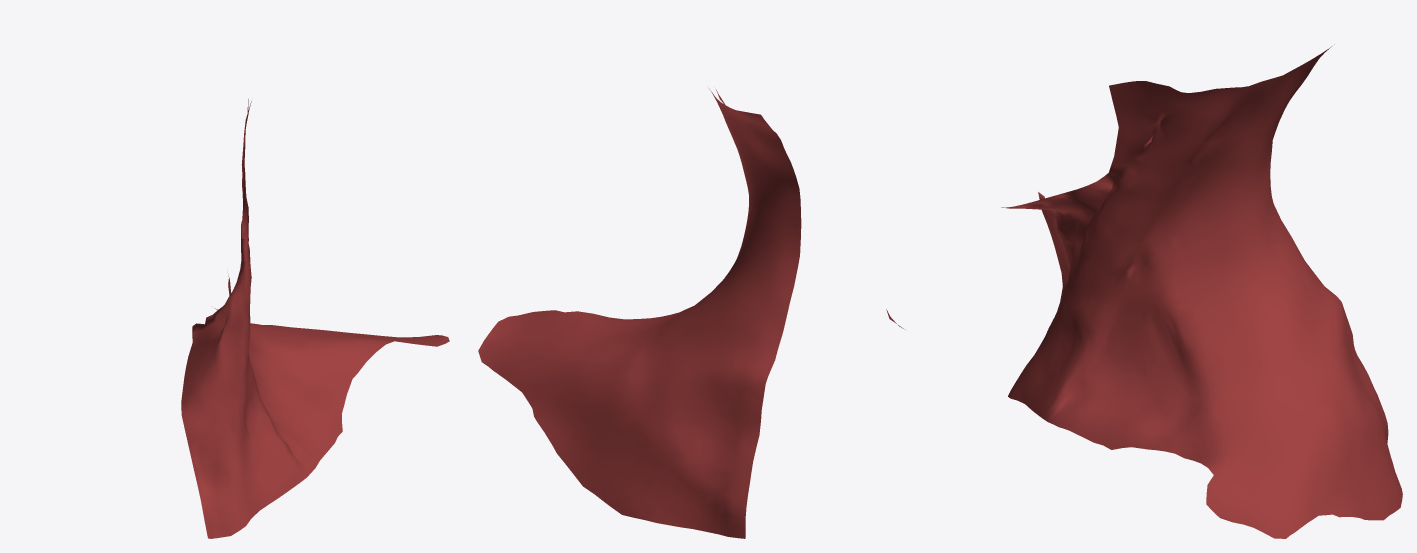
Rendered from superficial-investing-cervical-fascia-l.glb.
3 renders of one model, left to right at view 1: azimuth 30°, elevation 25°; view 2: azimuth 150°, elevation 25°; view 3: azimuth 270°, elevation 25°, orthographic. The views are drawn at different scales.
Visible parts, largest first — view 1: Superficial investing cervical fascia.l; view 2: Superficial investing cervical fascia.l; view 3: Superficial investing cervical fascia.l.
Boxes of the visible parts, <box> form: Superficial investing cervical fascia.l: <box>181,99,449,538</box>; Superficial investing cervical fascia.l: <box>478,89,904,538</box>; Superficial investing cervical fascia.l: <box>1001,44,1402,538</box>.
Size of the model in its own units: 0.1762 by 0.2156 by 0.1938.
